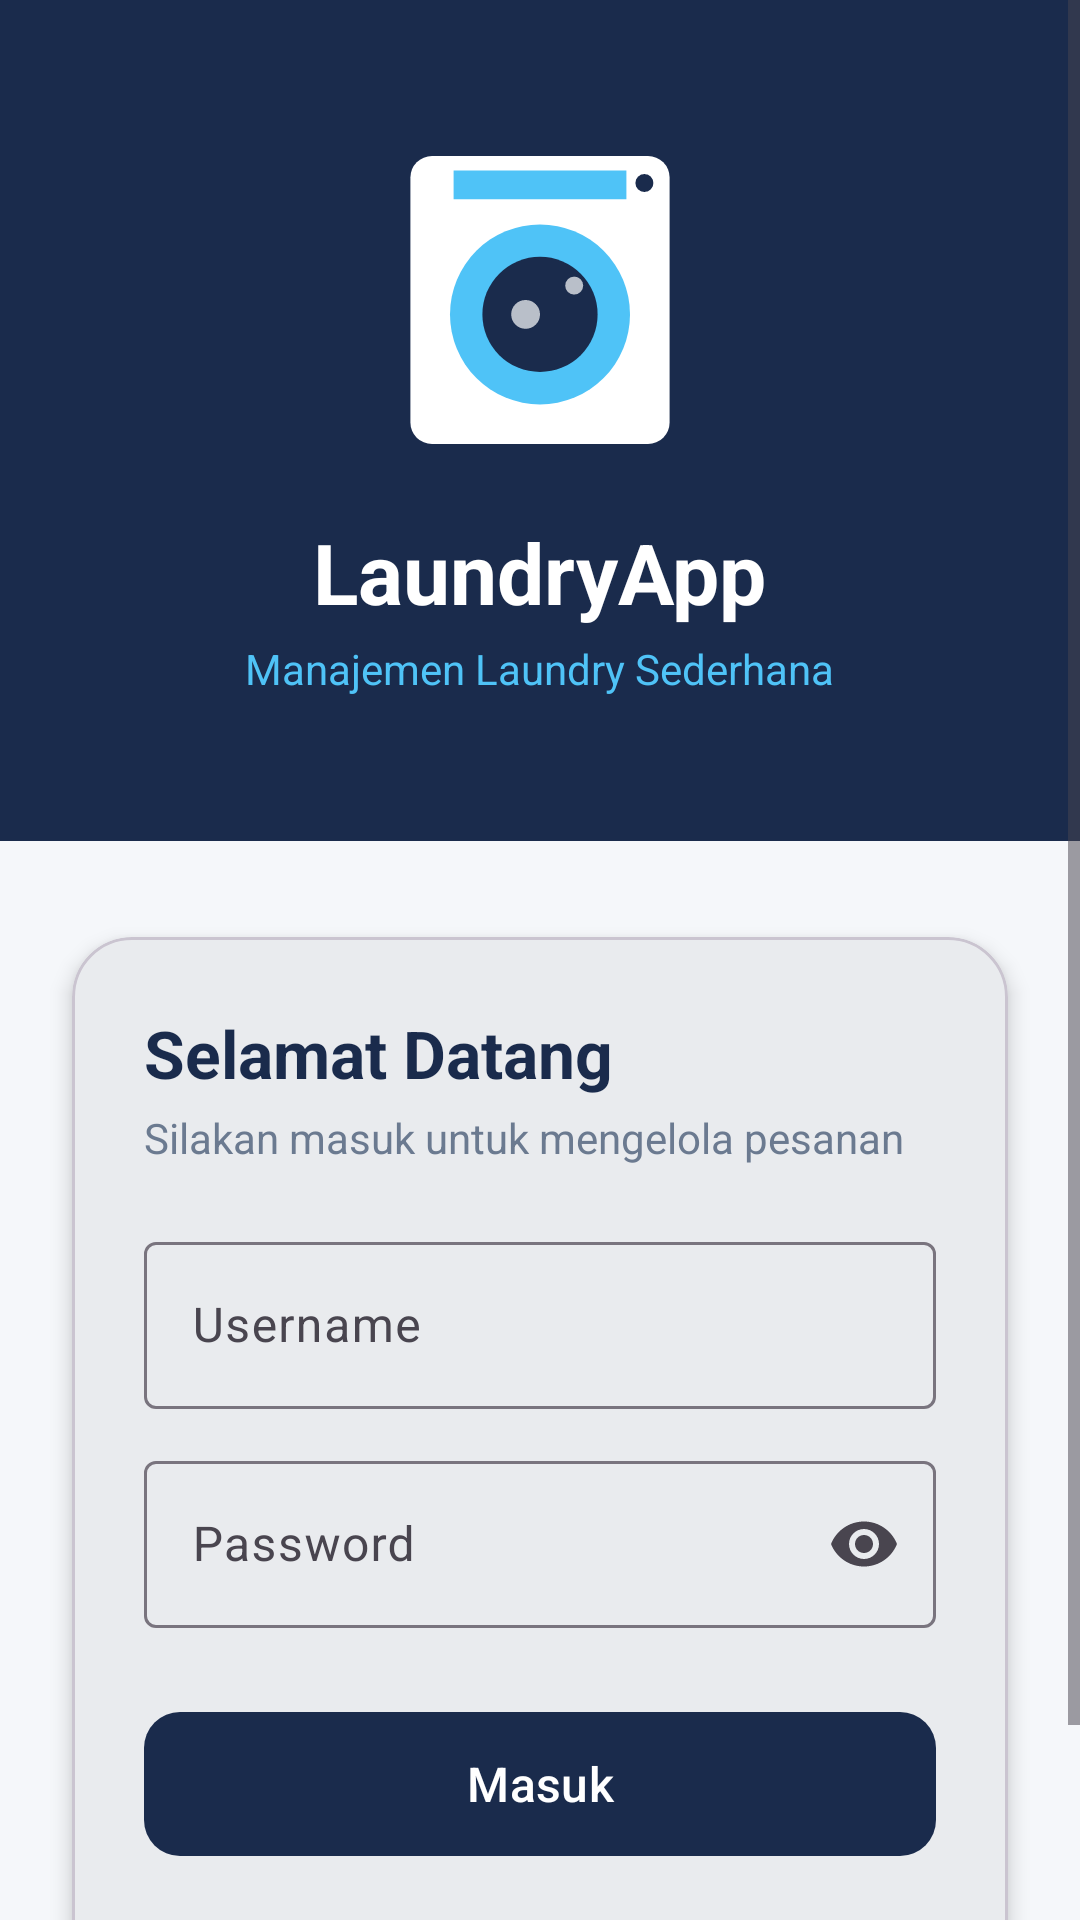

Icon bounding boxes for this 1080px x 1920px phone screenshot, format (x1,y1,x2,y2):
ill washing machine: (410,156,670,444)
